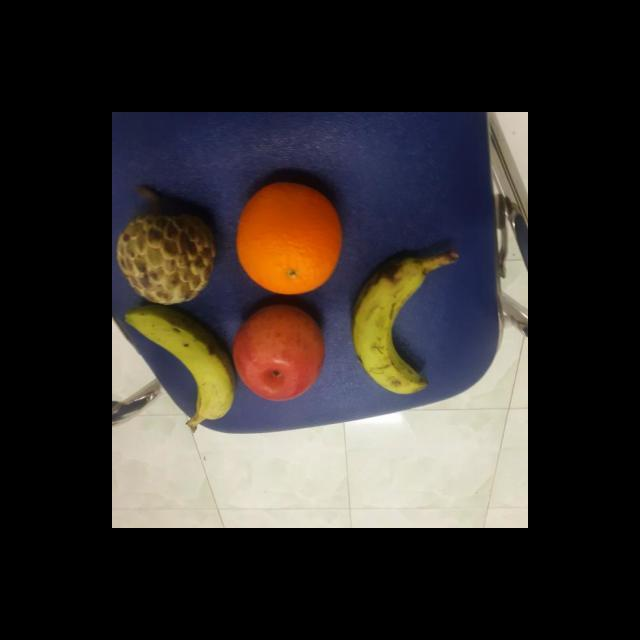Sakya fruit: (114, 210, 220, 306)
apple: (232, 300, 328, 402)
banana: (120, 304, 240, 424), (350, 255, 440, 397)
orange: (233, 178, 343, 298)
